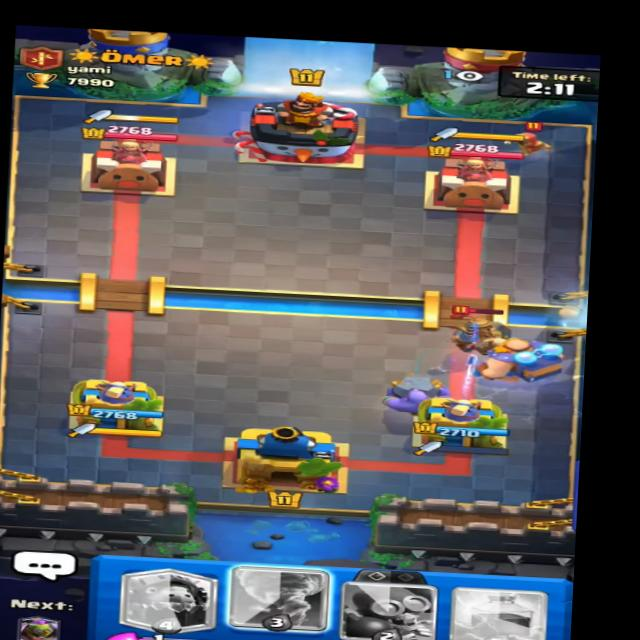prince: (441, 302, 510, 367)
wizard: (501, 119, 552, 164)
